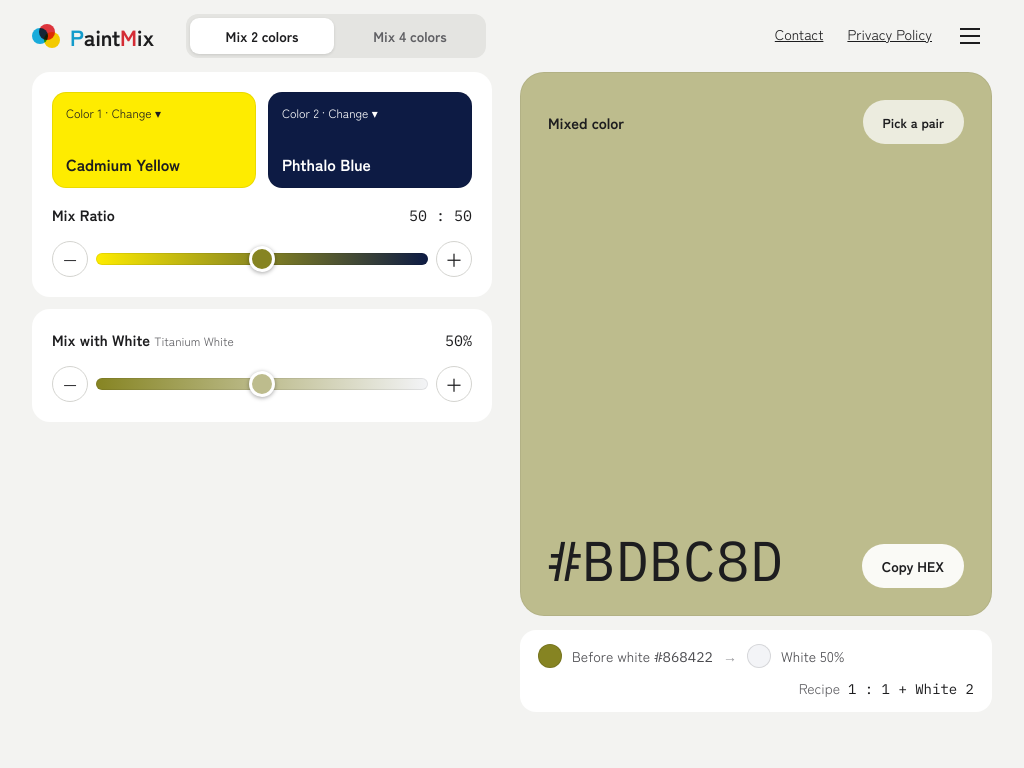
Test: two-color mixing › remembers and uses the custom color
Click the button with aria-label "Select Color 1:" at (154, 140), box left=52, top=92, right=256, bottom=188
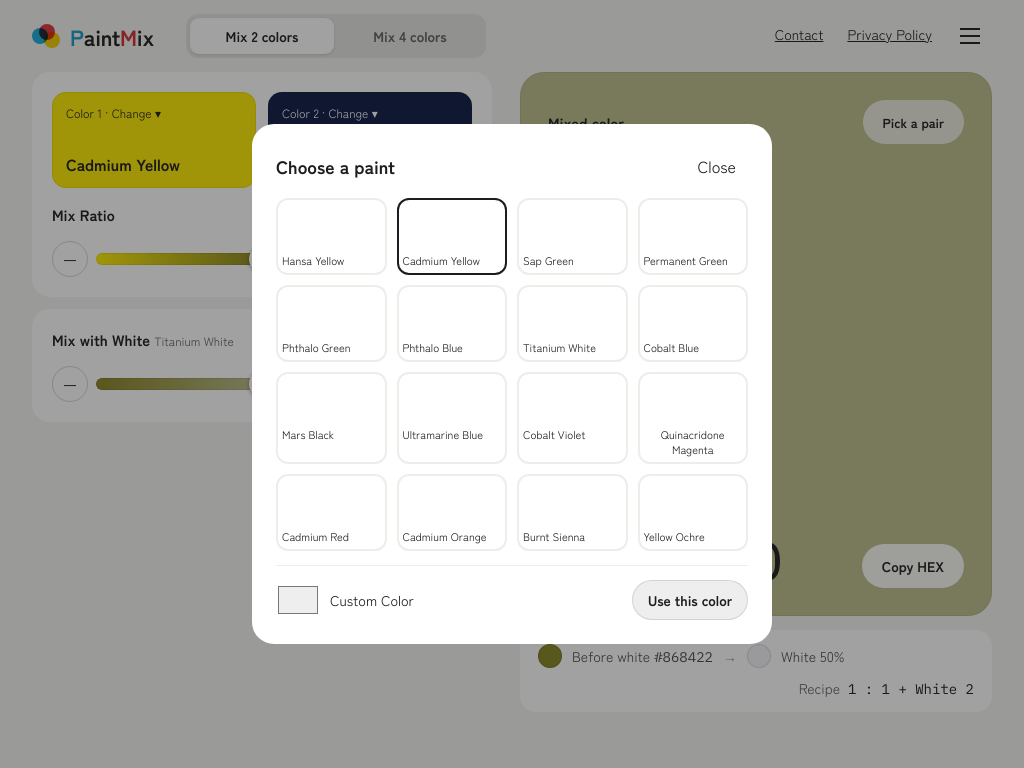
Type "#123456" into the colour field named "Custom Color" at (298, 600), box left=276, top=582, right=320, bottom=618
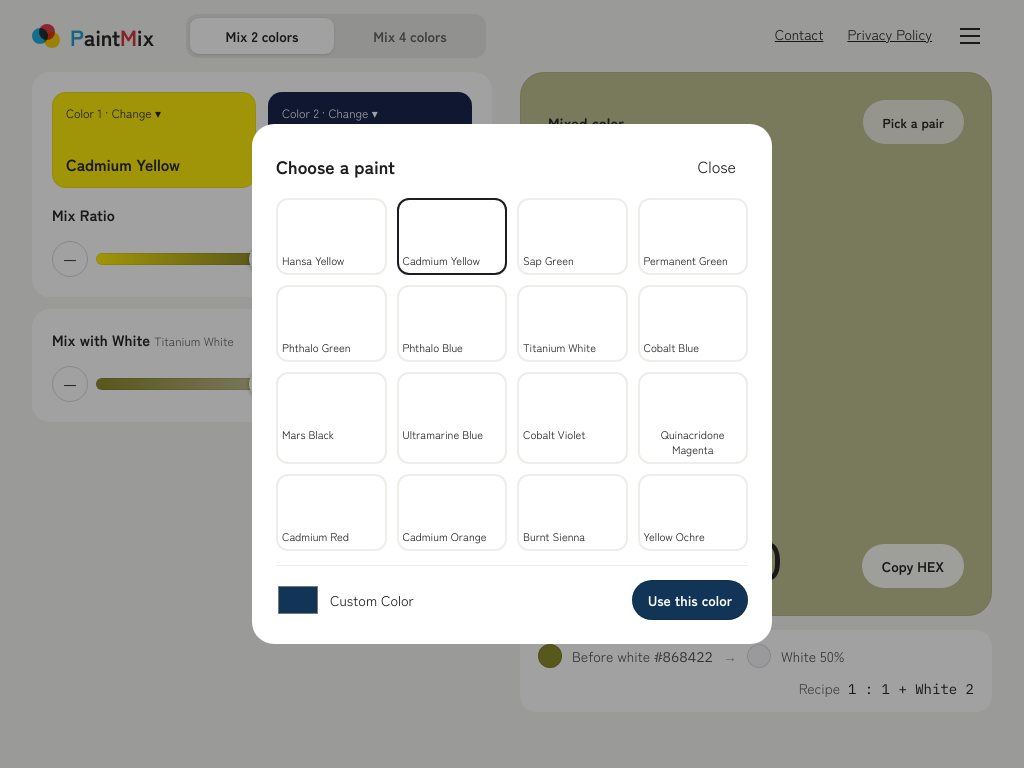
Now the button "Use this color" has style "backgroundColor: rgb(18, 52, 86); color: rgb(255, 255, 255)", box left=632, top=580, right=748, bottom=620
Click the button "Close" at (717, 166), box left=686, top=148, right=748, bottom=184
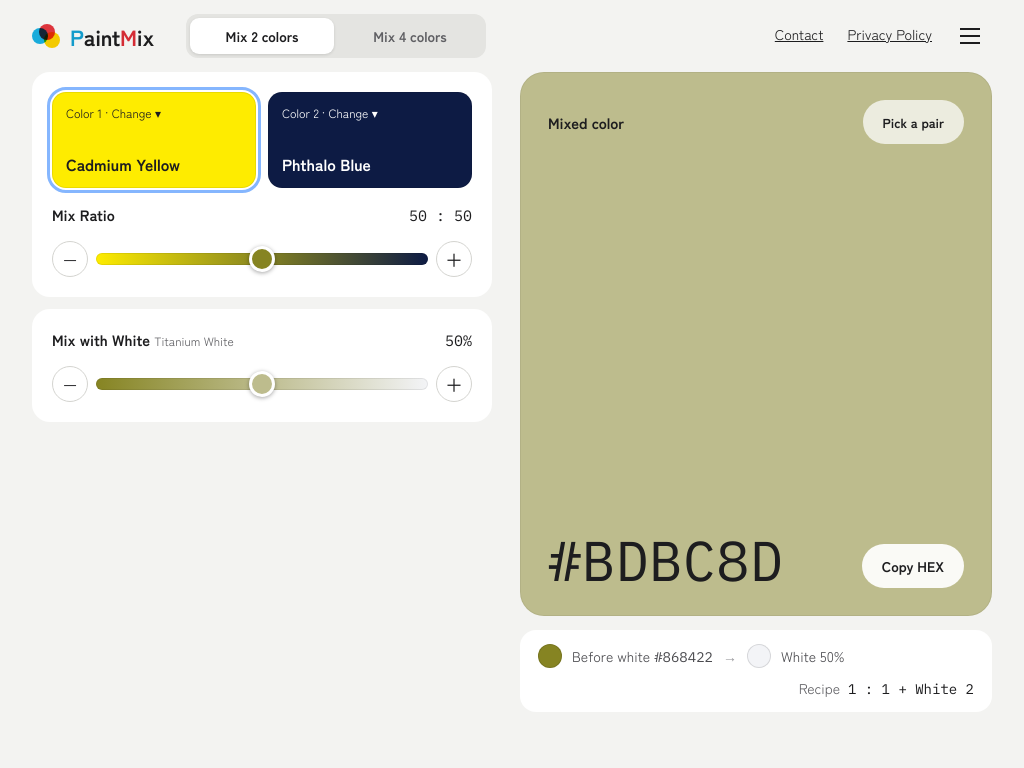
Click the button with aria-label "Select Color 2:" at (370, 140), box left=268, top=92, right=472, bottom=188
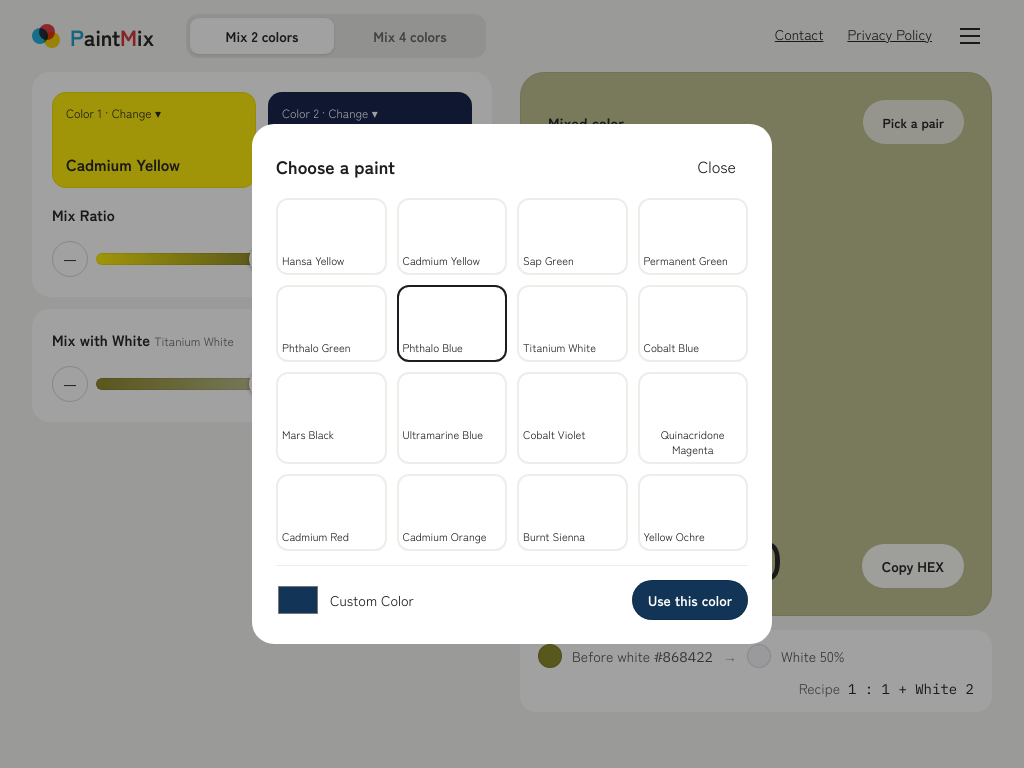
Now the colour field named "Custom Color" holds "#123456", box left=276, top=582, right=320, bottom=618
Click the button "Use this color" at (690, 600), box left=632, top=580, right=748, bottom=620
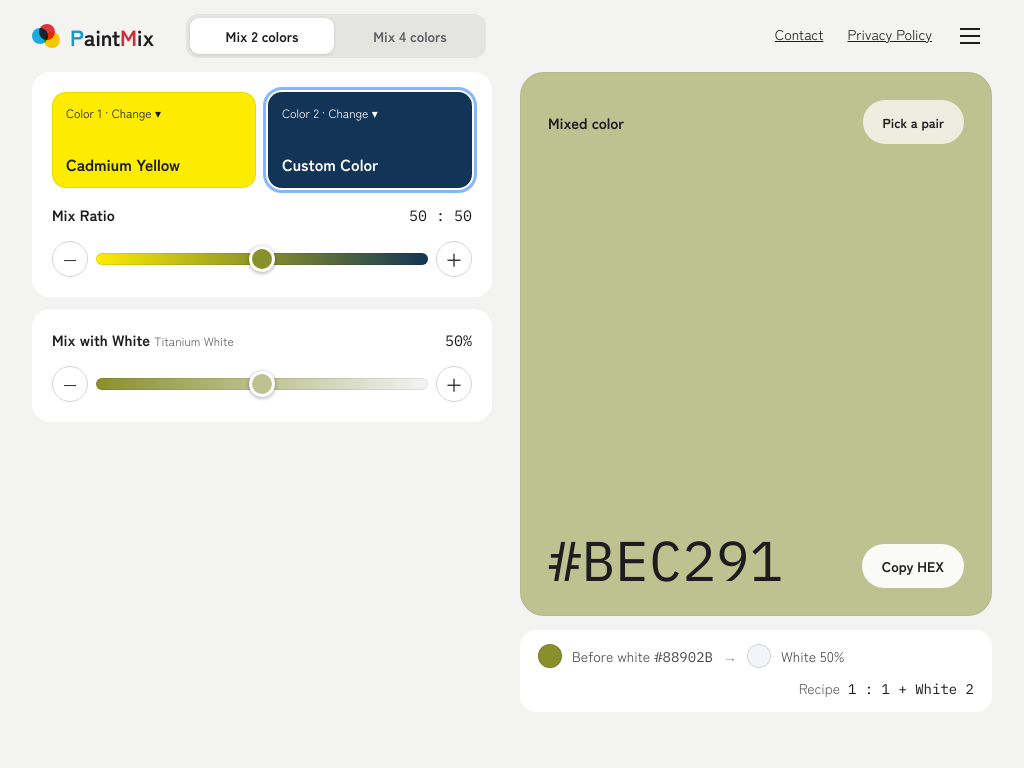
Now the button with aria-label "Select Color 2: Custom Color" is shown, box left=268, top=92, right=472, bottom=188
